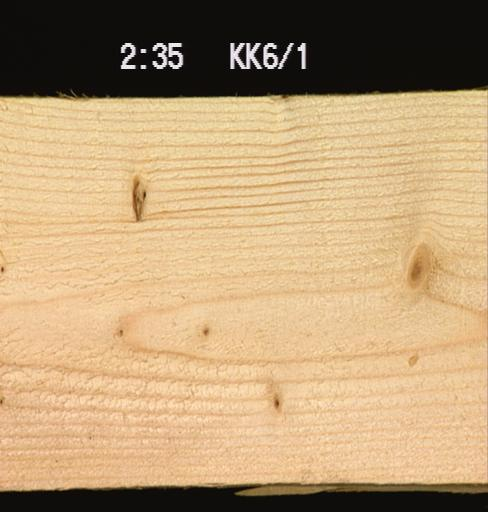small_knot: (263, 385, 292, 414), (194, 322, 216, 339), (0, 389, 8, 408), (0, 257, 8, 275)
sound_knot: (395, 243, 442, 290)
